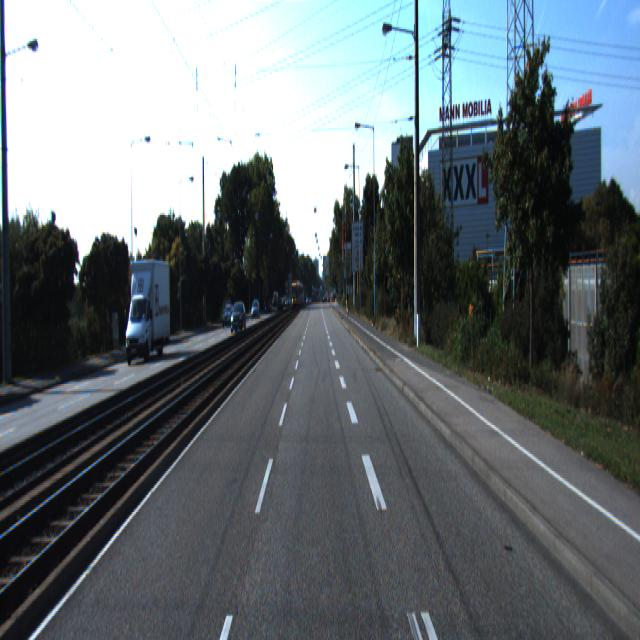Car: (230, 302, 247, 335)
DontCare: (250, 270, 340, 315), (221, 295, 228, 334)
Truck: (122, 260, 171, 370)
